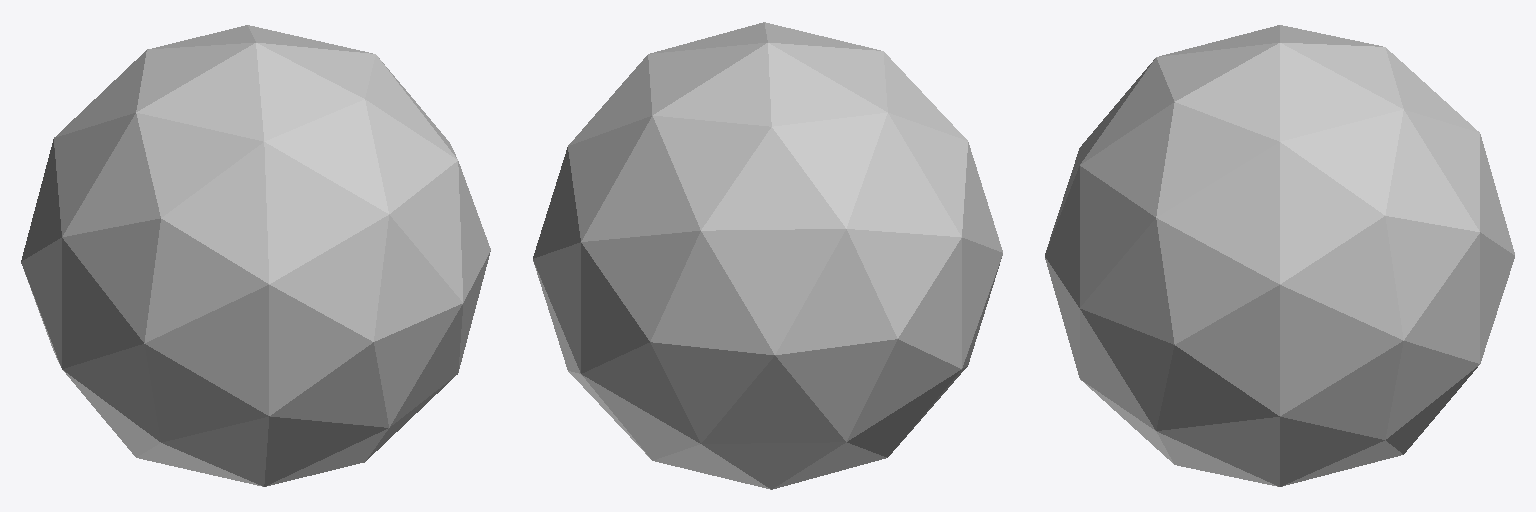
The model's file is ico-sphere.obj.
3 renders of one model, left to right at view 1: azimuth 30°, elevation 25°; view 2: azimuth 150°, elevation 25°; view 3: azimuth 270°, elevation 25°, orthographic.
Size of the model in its own units: 1.9 by 2 by 2.